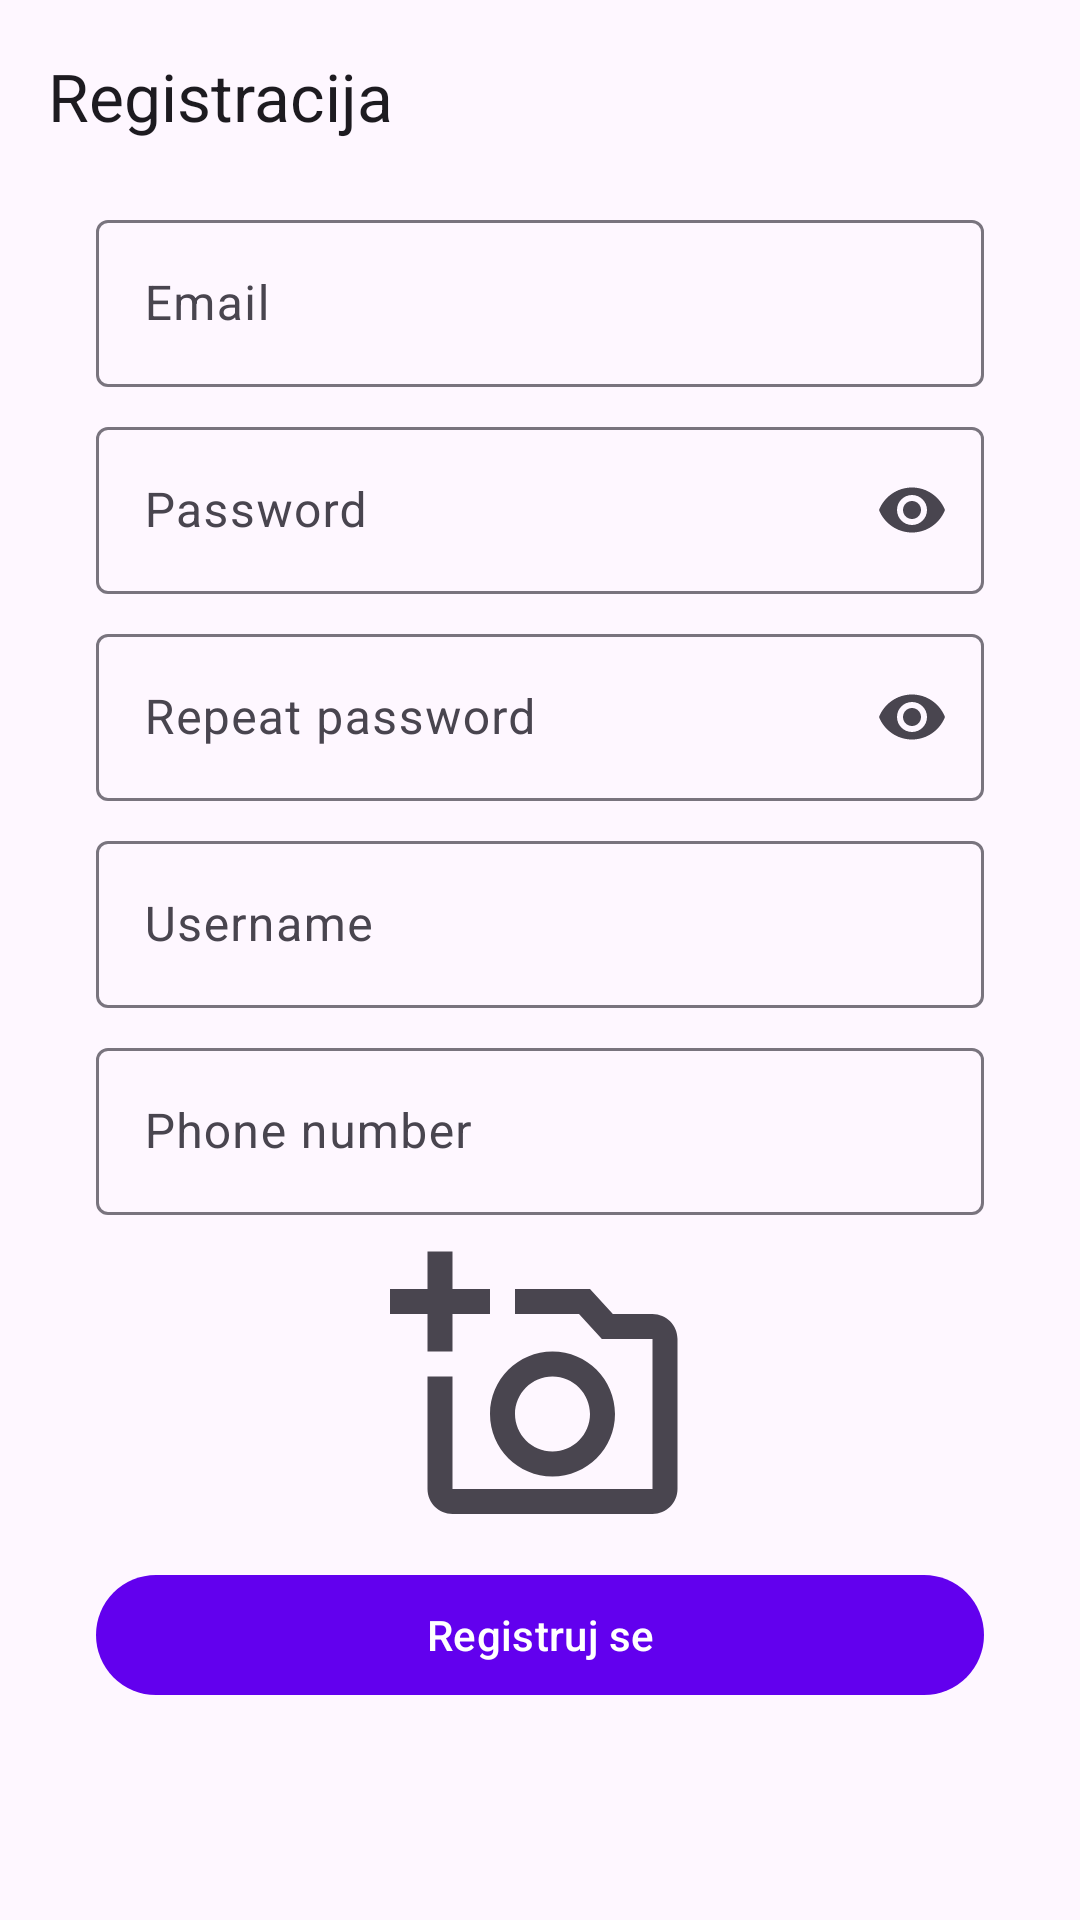

Named icons in this screenshot (1080 x 1920) and their bounding boxes, (x1, y1, x2, y2):
add photo: (390, 1251, 678, 1514)
